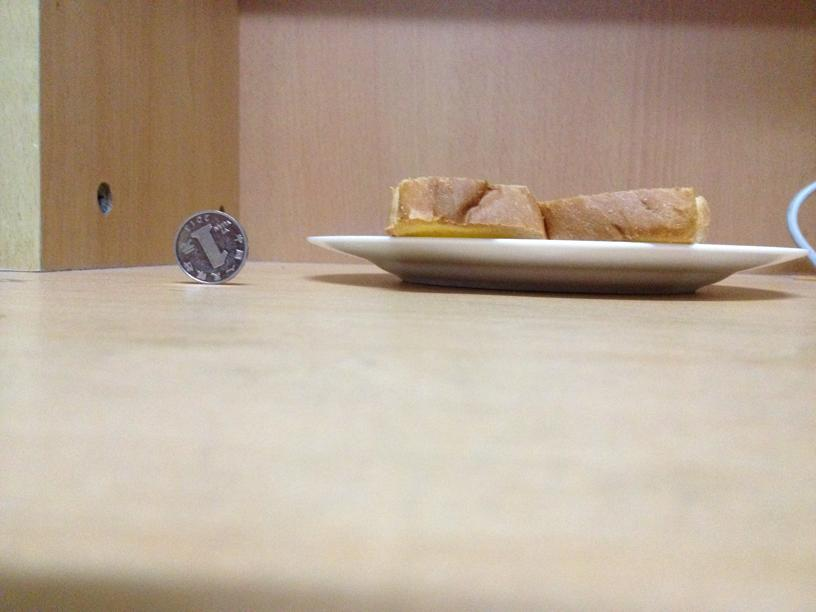bread: (383, 178, 711, 241)
coin: (173, 206, 247, 284)
